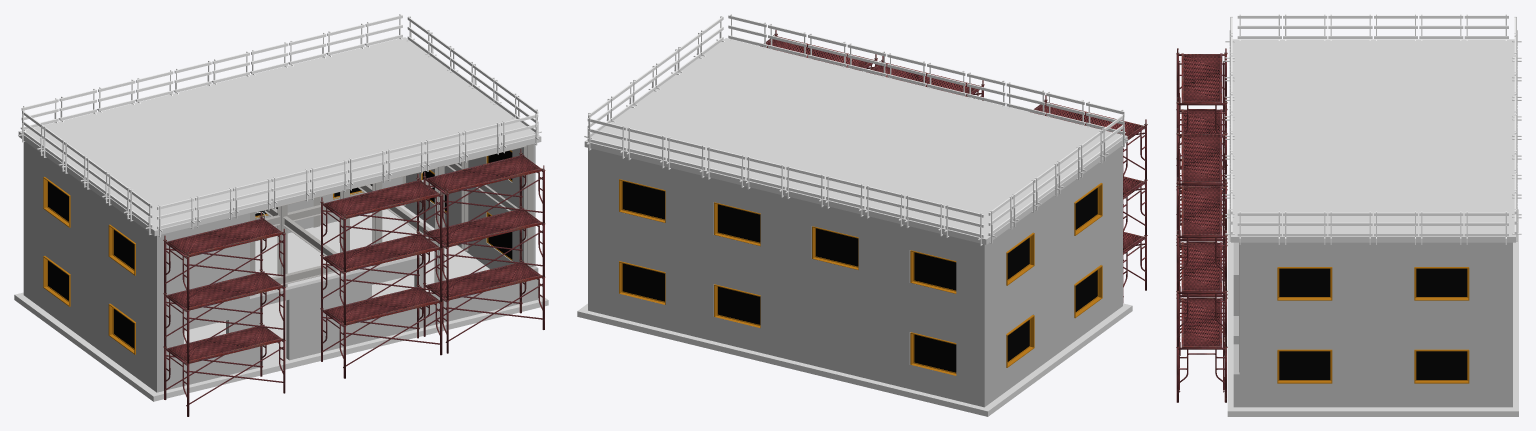
The model's file is adminBuilding.FBX.
3 renders of one model, left to right at view 1: azimuth 30°, elevation 25°; view 2: azimuth 150°, elevation 25°; view 3: azimuth 270°, elevation 25°, orthographic. The views are drawn at different scales.
Visible parts, largest first — view 1: admin_floor001, adminbuilding_walls, admin_scaffolding, admin_floor, admin_supportBeams, admin_window12, admin_window13, admin_window11, admin_window14, admin_roofGuarding05, admin_roofGuarding06, admin_roofGuarding02 (+16 smaller); view 2: adminbuilding_walls, admin_floor001, admin_floor, admin_scaffolding, admin_window05, admin_window06, admin_window08, admin_window09, admin_window07, admin_window04, admin_window10, admin_window12 (+22 smaller); view 3: admin_floor001, adminbuilding_walls, admin_scaffolding, admin_floor, admin_window03, admin_window00, admin_window01, admin_window02, admin_roofGuarding22, admin_roofGuarding25, admin_roofGuarding24, admin_roofGuarding21 (+8 smaller).
Part boxes in pixels (x1,y1,x2,y2): admin_floor001: (18,37,541,235); adminbuilding_walls: (23,140,538,392); admin_scaffolding: (163,148,545,416); admin_floor: (14,205,548,401); admin_supportBeams: (250,144,533,296); admin_window12: (43,256,70,306); admin_window13: (108,303,135,354); admin_window11: (43,177,70,227); admin_window14: (108,224,135,275); admin_roofGuarding05: (348,150,386,190); admin_roofGuarding06: (386,141,424,181); admin_roofGuarding02: (233,178,271,218); adminbuilding_walls: (588,145,1122,407); admin_floor001: (584,38,1127,244); admin_floor: (577,303,1132,416); admin_scaffolding: (760,30,1147,302); admin_window05: (619,179,665,222); admin_window06: (714,202,760,246); admin_window08: (812,226,858,269); admin_window09: (910,250,956,293); admin_window07: (714,284,760,327); admin_window04: (619,261,665,304); admin_window10: (910,332,956,375); admin_window12: (1006,315,1034,367); admin_floor001: (1231,39,1515,242); adminbuilding_walls: (1233,242,1512,407); admin_scaffolding: (1176,48,1227,402); admin_floor: (1227,209,1518,416); admin_window03: (1414,349,1469,383); admin_window00: (1277,349,1332,383); admin_window01: (1277,267,1332,300); admin_window02: (1414,267,1469,300); admin_roofGuarding22: (1328,211,1372,244); admin_roofGuarding25: (1464,211,1508,244); admin_roofGuarding24: (1419,211,1463,244); admin_roofGuarding21: (1283,211,1327,244).
Bounding box in the file's own units: 673 × 313 × 484.
